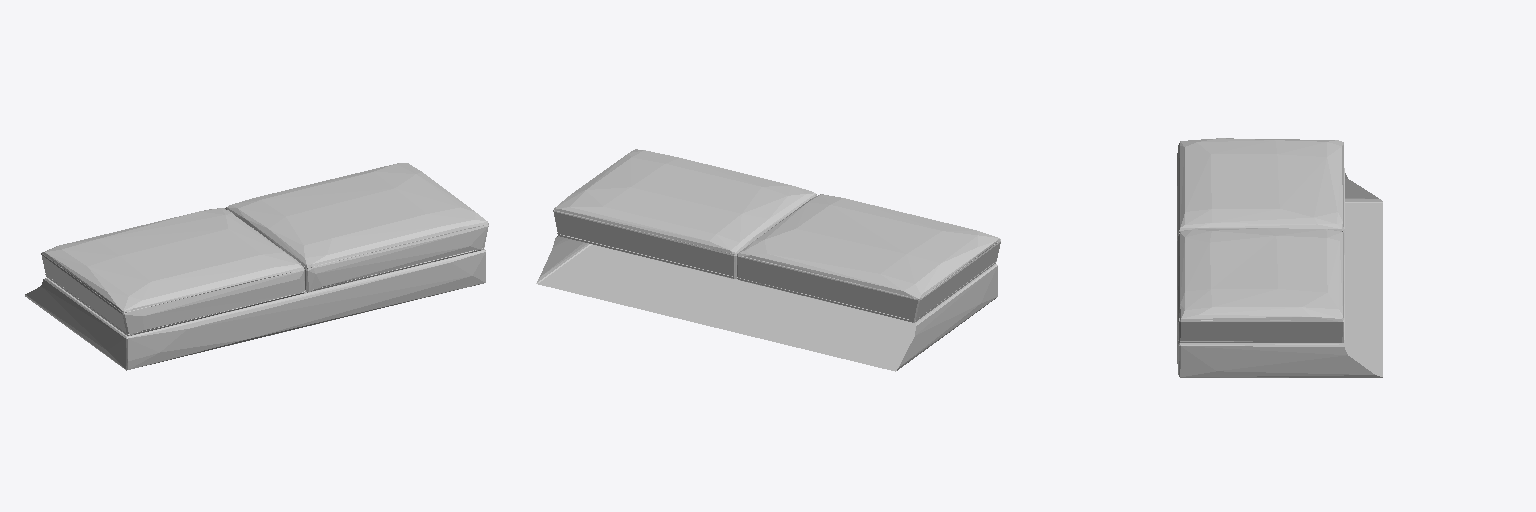
File: ziri.obj
The picture shows the model from 3 angles: view 1: azimuth 30°, elevation 25°; view 2: azimuth 150°, elevation 25°; view 3: azimuth 270°, elevation 25°; orthographic projection.
Visible parts, largest first — view 1: ziri.001, ziri; view 2: ziri.001, ziri; view 3: ziri.001, ziri.
Part boxes in pixels (bbox=[...]): ziri.001: bbox=[41, 163, 488, 335]; ziri: bbox=[25, 249, 485, 370]; ziri.001: bbox=[553, 149, 1000, 322]; ziri: bbox=[536, 236, 997, 371]; ziri.001: bbox=[1177, 138, 1344, 342]; ziri: bbox=[1177, 173, 1382, 377].
Size of the model in its own units: 10.31 by 1.85 by 5.03.